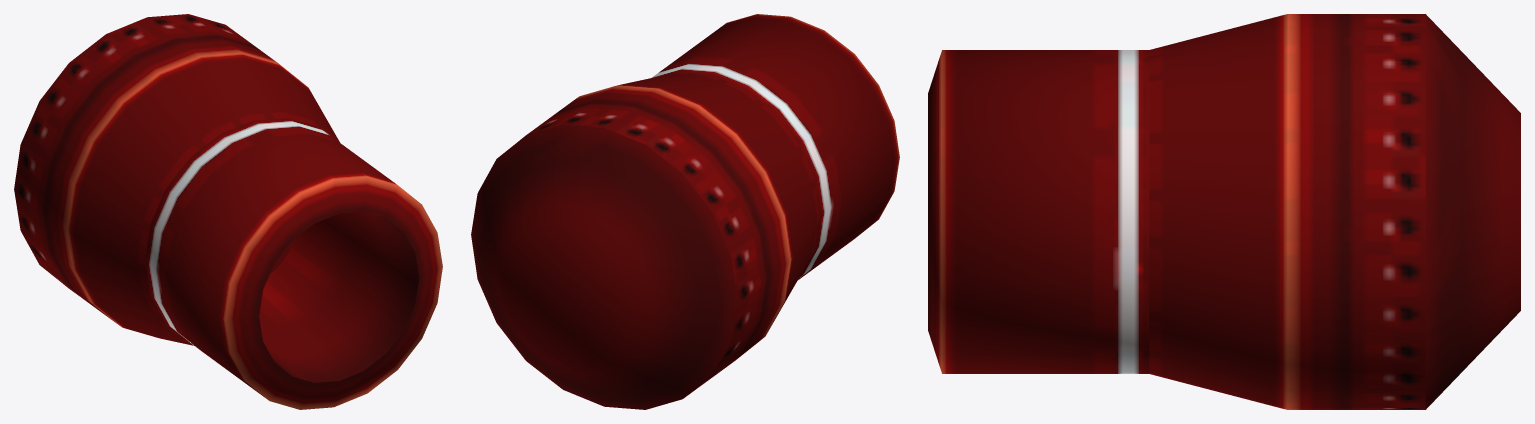
The model's file is pinnacannon.dae.
The picture shows the model from 3 angles, left to right: view 1: azimuth 30°, elevation 25°; view 2: azimuth 150°, elevation 25°; view 3: azimuth 270°, elevation 25°; orthographic projection. The views are drawn at different scales.
Parts seen in each view (by area): view 1: n0b0; view 2: n0b0; view 3: n0b0.
Part boxes in pixels (bbox=[...]): n0b0: bbox=[14, 14, 442, 409]; n0b0: bbox=[471, 14, 899, 409]; n0b0: bbox=[928, 14, 1520, 409].
Size of the model in its own units: 154 by 154 by 229.
1 material, 1 textured.
